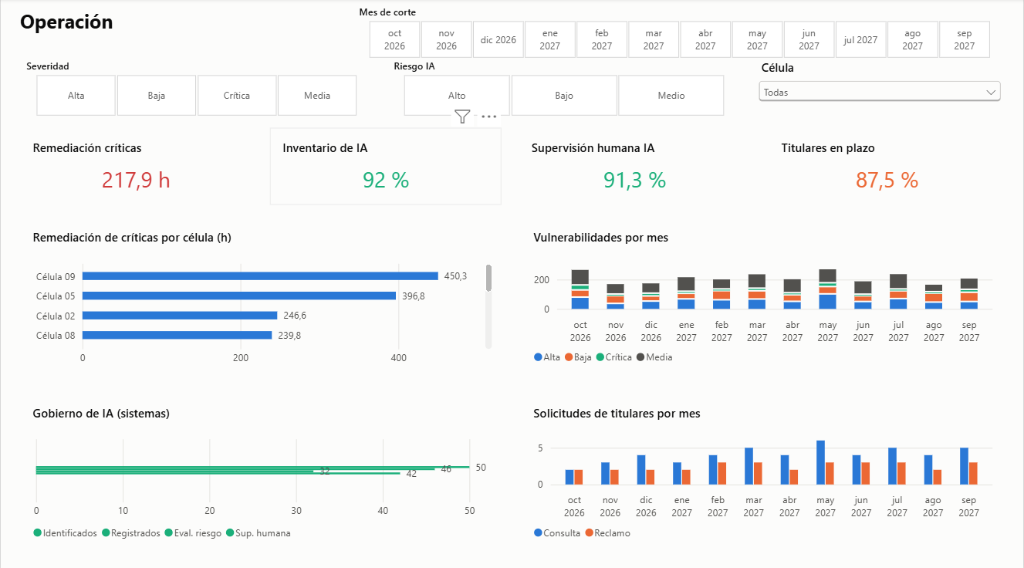

Layout of this report page (visuals, bound fields, positions):
{"tool":"powerbi","page":{"name":"Operación","canvas":[1280,720],"ordinal":2},"visuals":[{"type":"textbox","box":[24,12,400,48],"z":1000},{"type":"slicer","fields":{"Values":["dim_corte.etiqueta"]},"box":[440.4,8.4,815.6,67.6],"z":2000},{"type":"slicer","fields":{"Values":["fact_vulnerabilidad.severidad"]},"box":[24,76,440,72],"z":4000},{"type":"slicer","fields":{"Values":["fact_sistema_ia.nivel_riesgo"]},"box":[484,76,440,72],"z":4100},{"type":"slicer","fields":{"Values":["dim_celula.nombre"]},"box":[944,76,312,72],"z":4200},{"type":"card","title":"Remediación críticas","fields":{"Values":["Medidas.Valor texto"]},"box":[24,162,290,96],"z":5000},{"type":"card","title":"Inventario de IA","fields":{"Values":["Medidas.Valor texto"]},"box":[336,162,290,96],"z":5100},{"type":"card","title":"Supervisión humana IA","fields":{"Values":["Medidas.Valor texto"]},"box":[648,162,290,96],"z":5200},{"type":"card","title":"Titulares en plazo","fields":{"Values":["Medidas.Valor texto"]},"box":[960,162,296,96],"z":5300},{"type":"clusteredBarChart","title":"Remediación de críticas por célula (h)","fields":{"Category":["dim_celula.nombre"],"Y":["Medidas.Valor al corte"]},"box":[24,274,606,204],"z":6000},{"type":"columnChart","title":"Vulnerabilidades por mes","fields":{"Category":["dim_fecha.etiqueta"],"Series":["fact_vulnerabilidad.severidad"],"Y":["Medidas.Vulnerabilidades"]},"box":[650,274,606,204],"z":6100},{"type":"clusteredBarChart","title":"Gobierno de IA (sistemas)","fields":{"Y":["Medidas.Sistemas identificados","Medidas.Sistemas registrados","Medidas.Con evaluación de riesgo","Medidas.Con supervisión humana"]},"box":[24,494,606,204],"z":6200},{"type":"clusteredColumnChart","title":"Solicitudes de titulares por mes","fields":{"Category":["dim_fecha.etiqueta"],"Series":["fact_solicitud_titular.tipo"],"Y":["Medidas.Solicitudes"]},"box":[650,494,606,204],"z":6300}]}

Visuals, with their boxes in screenshot pixels (x1, y1, x2, y2), scaled from the page's 1280x720 canvas onto the 1024x568 screenshot:
textbox: crop(19, 9, 339, 47)
slicer - dim_corte.etiqueta: crop(352, 7, 1005, 60)
slicer - fact_vulnerabilidad.severidad: crop(19, 60, 371, 117)
slicer - fact_sistema_ia.nivel_riesgo: crop(387, 60, 739, 117)
slicer - dim_celula.nombre: crop(755, 60, 1005, 117)
"Remediación críticas" card: crop(19, 128, 251, 204)
"Inventario de IA" card: crop(269, 128, 501, 204)
"Supervisión humana IA" card: crop(518, 128, 750, 204)
"Titulares en plazo" card: crop(768, 128, 1005, 204)
"Remediación de críticas por célula (h)" clusteredBarChart: crop(19, 216, 504, 377)
"Vulnerabilidades por mes" columnChart: crop(520, 216, 1005, 377)
"Gobierno de IA (sistemas)" clusteredBarChart: crop(19, 390, 504, 551)
"Solicitudes de titulares por mes" clusteredColumnChart: crop(520, 390, 1005, 551)
